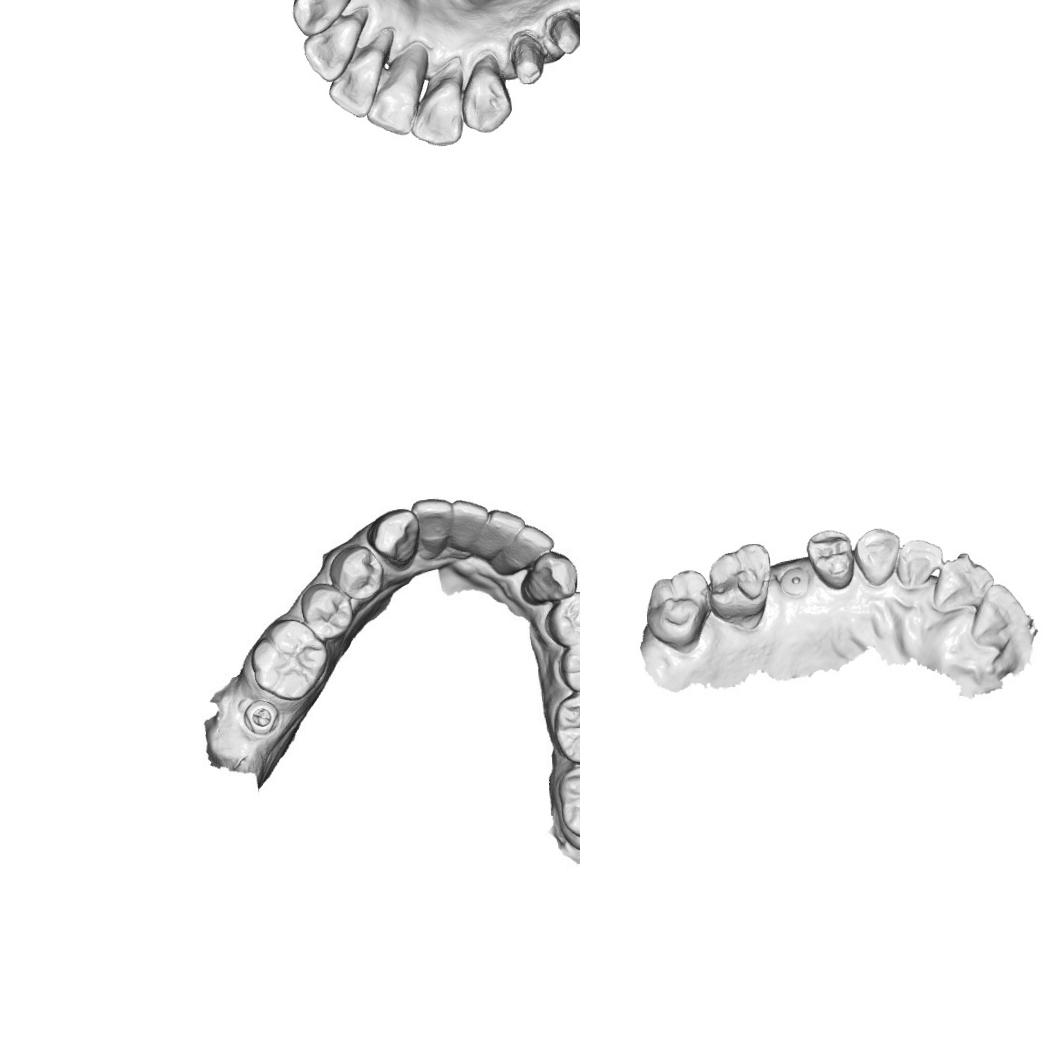canine: (458, 59, 514, 134), (520, 547, 580, 606), (368, 506, 423, 570), (852, 526, 902, 588), (288, 0, 348, 36)
crown: (510, 34, 548, 89), (546, 7, 580, 57)
implant: (235, 694, 285, 740), (779, 564, 810, 596)
incisor: (930, 550, 996, 614), (968, 582, 1031, 648), (366, 67, 423, 138), (328, 52, 386, 120), (410, 78, 466, 146), (302, 20, 358, 84), (492, 528, 548, 576), (894, 538, 944, 590), (414, 500, 453, 558), (486, 508, 521, 572), (450, 500, 486, 557)
molar: (246, 615, 330, 701), (707, 540, 774, 630), (643, 568, 712, 652), (549, 687, 580, 765), (554, 763, 580, 842)
premolar: (297, 579, 356, 641), (327, 542, 386, 601), (804, 528, 856, 592), (543, 588, 580, 648), (557, 637, 580, 691)
